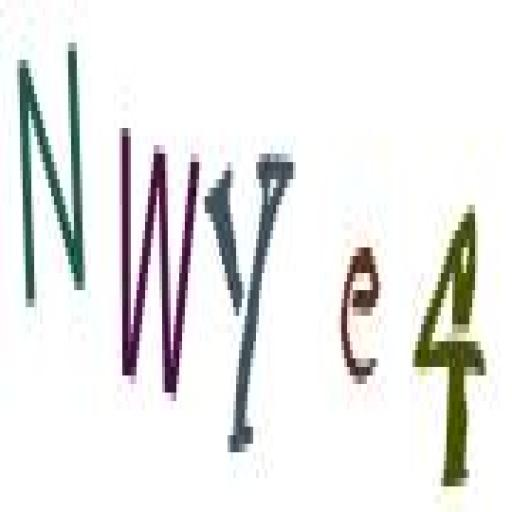4: (408, 190, 491, 505)
N: (14, 25, 94, 348)
W: (113, 118, 202, 412)
Y: (196, 142, 295, 476)
e: (338, 229, 386, 399)
